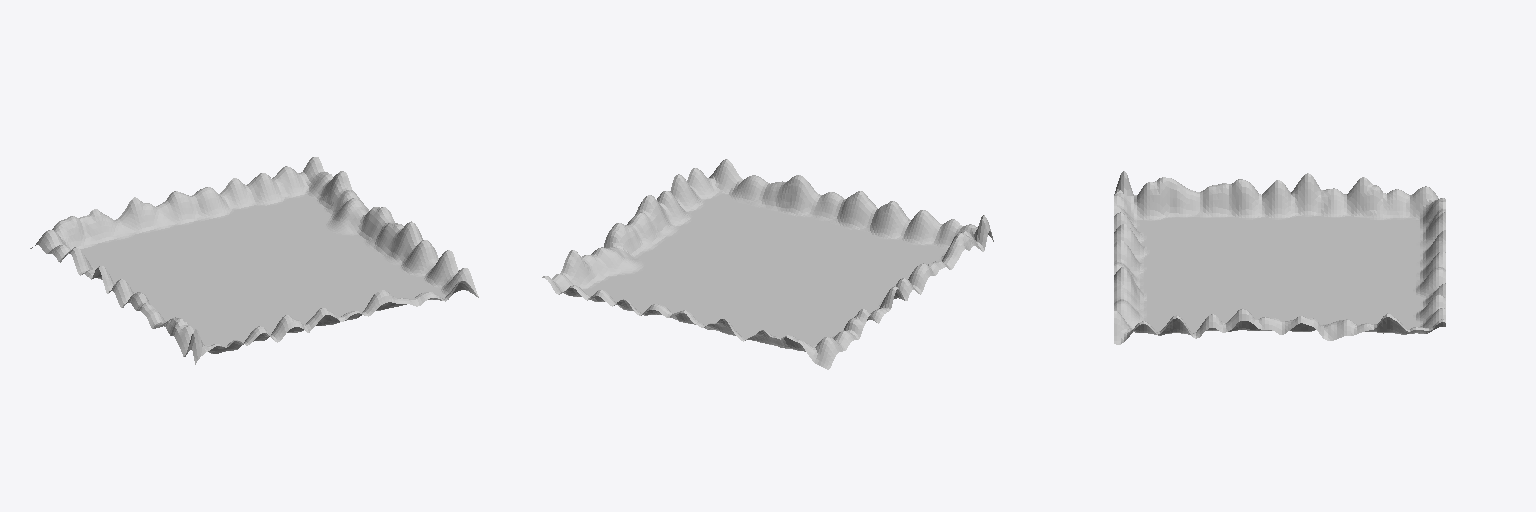
The model's file is border.obj.
The picture shows the model from 3 angles: view 1: azimuth 30°, elevation 25°; view 2: azimuth 150°, elevation 25°; view 3: azimuth 270°, elevation 25°; orthographic projection.
Parts seen in each view (by area): view 1: Plane; view 2: Plane; view 3: Plane.
Boxes of the visible parts, <box> form: Plane: <box>30,157,478,364</box>; Plane: <box>542,159,993,369</box>; Plane: <box>1114,171,1445,344</box>.
Bounding box in the file's own units: 21.69 × 2.69 × 21.69.